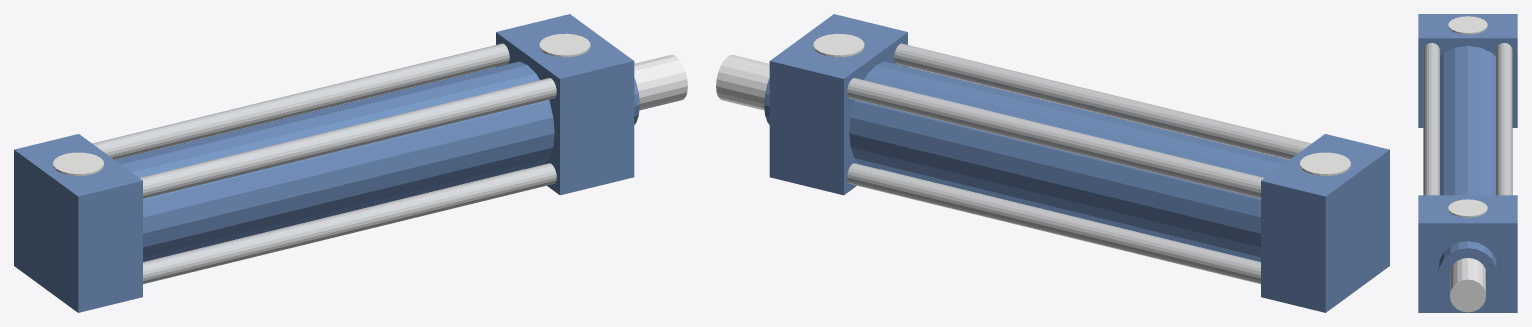
The model's file is hyd-cylinder-da-40.glb.
3 views of the same model, side by side, from view 1: azimuth 30°, elevation 25°; view 2: azimuth 150°, elevation 25°; view 3: azimuth 270°, elevation 25° (orthographic). The views are drawn at different scales.
Visible parts, largest first — view 1: body, rod, port-rod, port-cap; view 2: body, rod, port-rod, port-cap; view 3: body, rod, port-rod, port-cap.
Boxes of the visible parts, x1=… form: body: x1=14, y1=14, x2=639, y2=312; rod: x1=634, y1=54, x2=687, y2=110; port-rod: x1=539, y1=33, x2=590, y2=57; port-cap: x1=53, y1=152, x2=103, y2=175; body: x1=764, y1=14, x2=1389, y2=312; rod: x1=716, y1=54, x2=769, y2=110; port-rod: x1=813, y1=33, x2=864, y2=57; port-cap: x1=1300, y1=152, x2=1350, y2=175; body: x1=1418, y1=14, x2=1517, y2=312; rod: x1=1450, y1=258, x2=1485, y2=312; port-rod: x1=1448, y1=199, x2=1487, y2=217; port-cap: x1=1448, y1=16, x2=1487, y2=34.
Size of what is drawn, in the model's own units: 0.34 by 0.061 by 0.06.
